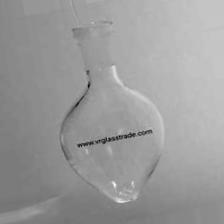Pear shaped flask: (52, 18, 172, 209)
